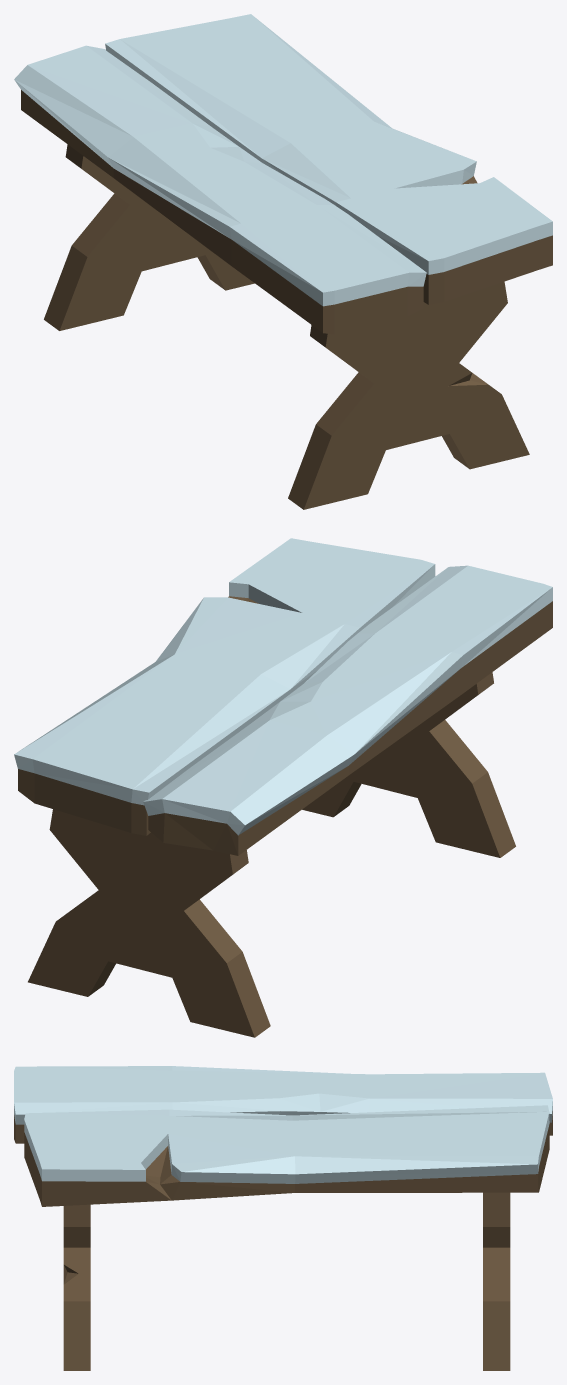
Rendered from SM_Prop_Seat_01_Snow.fbx.
3 views of the same model, one above another, from view 1: azimuth 30°, elevation 25°; view 2: azimuth 150°, elevation 25°; view 3: azimuth 270°, elevation 25° (orthographic). The views are drawn at different scales.
Parts seen in each view (by area): view 1: SM_Prop_Seat_01_Snow; view 2: SM_Prop_Seat_01_Snow; view 3: SM_Prop_Seat_01_Snow.
Boxes of the visible parts, bbox=[...] form: SM_Prop_Seat_01_Snow: bbox=[14, 14, 552, 509]; SM_Prop_Seat_01_Snow: bbox=[14, 538, 552, 1037]; SM_Prop_Seat_01_Snow: bbox=[14, 1066, 552, 1370].
Bounding box in the file's own units: 67.21 × 59.45 × 141.
